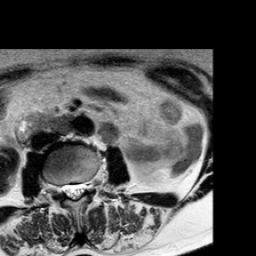CCS_stenosis: (70, 173, 78, 210)
LFS_normal: (86, 169, 94, 199)
LLS_normal: (78, 173, 86, 202)
RFS_normal: (54, 174, 62, 202)
RLS_normal: (62, 174, 70, 202)
